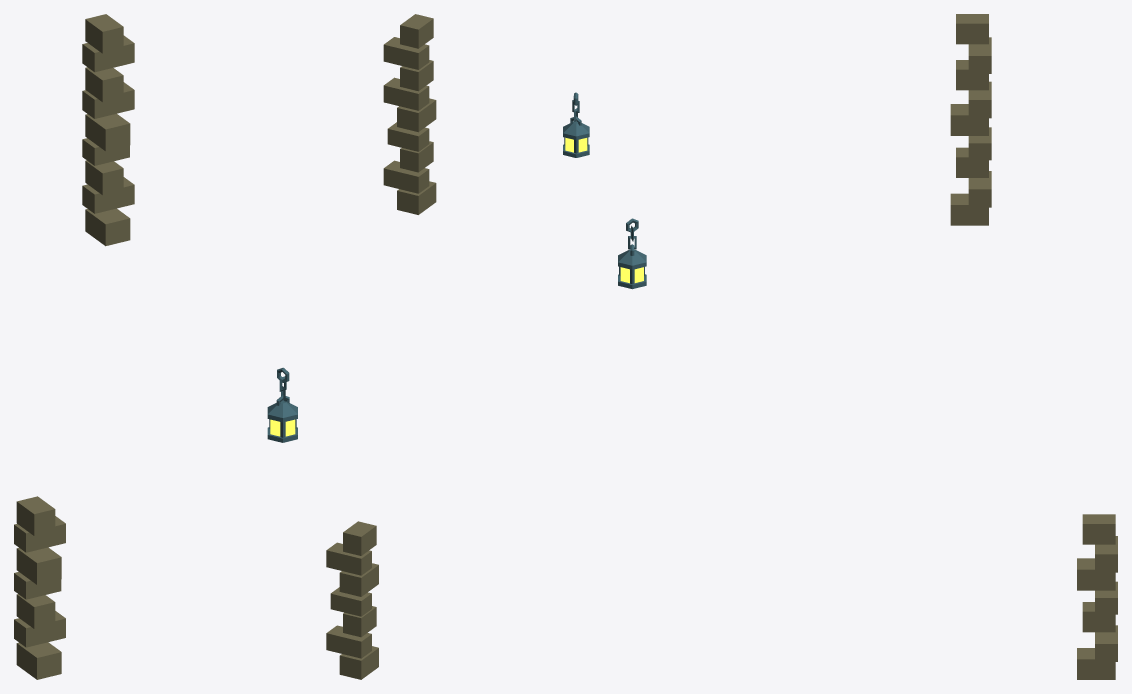
The picture shows the model from 3 angles, left to right: view 1: azimuth 30°, elevation 25°; view 2: azimuth 150°, elevation 25°; view 3: azimuth 270°, elevation 25°; orthographic projection. The views are drawn at different scales.
Visible parts, largest first — view 1: Box15749_rock2_0, Box15353_rock2_0, Cylinder1745_metal_0; view 2: Box15749_rock2_0, Box15353_rock2_0, Cylinder1745_metal_0; view 3: Box15749_rock2_0, Box15353_rock2_0, Cylinder1745_metal_0.
Part boxes in pixels (box(x1,y1,x2,y2)): Box15749_rock2_0: box(82, 14, 134, 246); Box15353_rock2_0: box(14, 496, 65, 679); Cylinder1745_metal_0: box(267, 400, 297, 442); Box15749_rock2_0: box(383, 14, 436, 214); Box15353_rock2_0: box(326, 521, 378, 679); Cylinder1745_metal_0: box(563, 121, 589, 157); Box15749_rock2_0: box(950, 14, 991, 225); Box15353_rock2_0: box(1077, 514, 1117, 679); Cylinder1745_metal_0: box(618, 249, 646, 289).
Bounding box in the file's own units: 84.79 × 1248 × 863.
